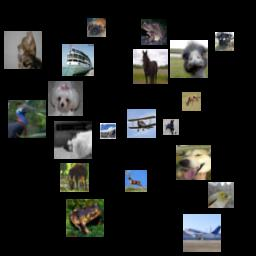airplane: (183, 214, 221, 252), (127, 109, 156, 138), (100, 123, 116, 139)
bird: (170, 40, 208, 78), (8, 100, 46, 138), (208, 182, 234, 208)
cat: (4, 31, 42, 69), (54, 121, 92, 159)
deer: (60, 163, 89, 192), (125, 170, 147, 192), (182, 92, 201, 111)
dog: (176, 145, 211, 180), (48, 81, 83, 116), (87, 18, 106, 37), (163, 119, 179, 135)
frog: (66, 199, 104, 237), (141, 19, 167, 45)
ship: (62, 44, 94, 76)
truck: (215, 32, 234, 51)
